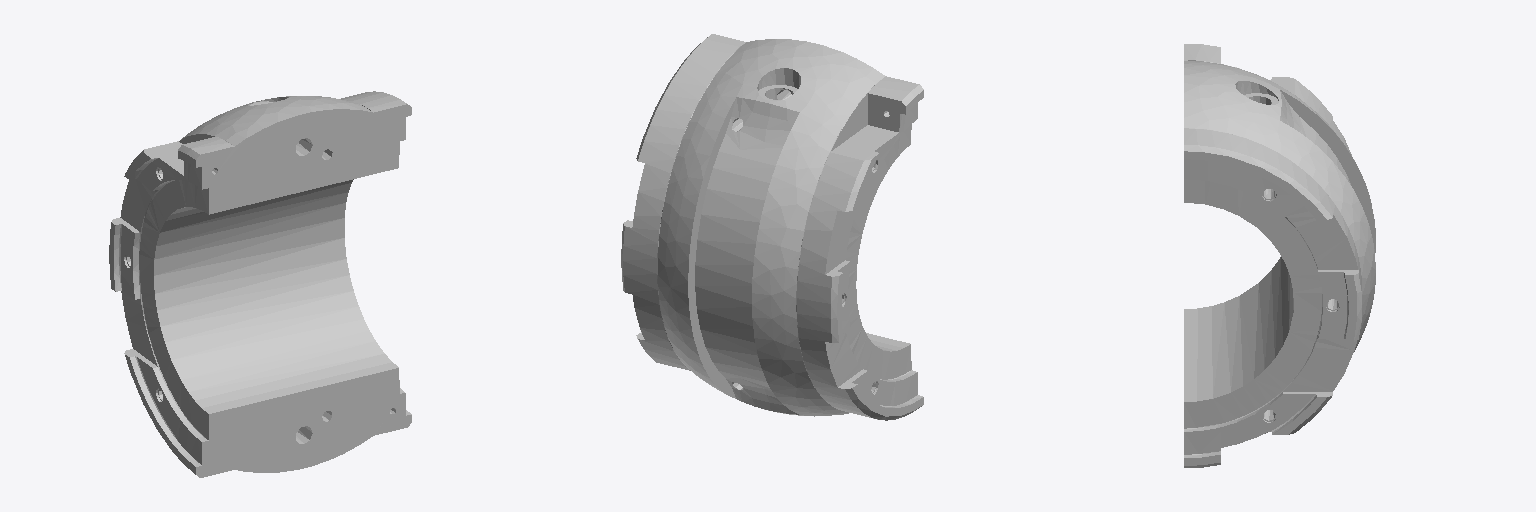
File: lower bearing liner.obj
The picture shows the model from 3 angles: view 1: azimuth 30°, elevation 25°; view 2: azimuth 150°, elevation 25°; view 3: azimuth 270°, elevation 25°; orthographic projection.
Parts seen in each view (by area): view 1: imagetostl_mesh0; view 2: imagetostl_mesh0; view 3: imagetostl_mesh0.
Boxes of the visible parts, x1=… form: imagetostl_mesh0: x1=109, y1=91, x2=411, y2=477; imagetostl_mesh0: x1=621, y1=34, x2=923, y2=420; imagetostl_mesh0: x1=1184, y1=44, x2=1375, y2=467.
Bounding box in the file's own units: 102 × 160 × 78.64.